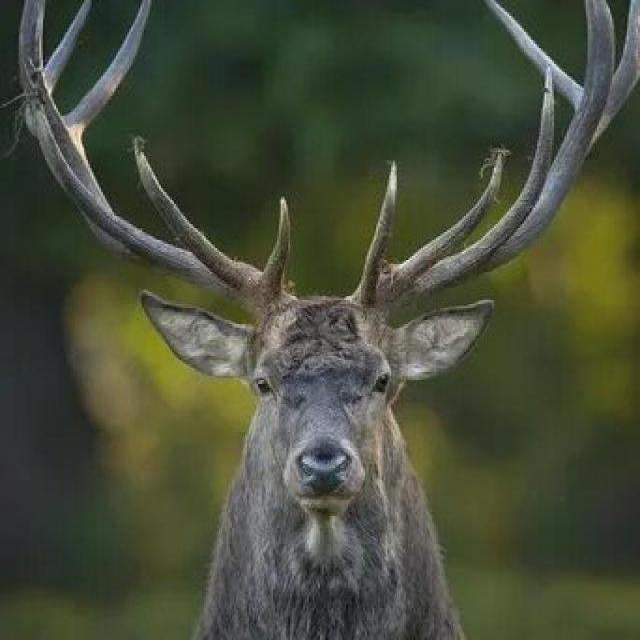deer: (71, 108, 562, 623)
